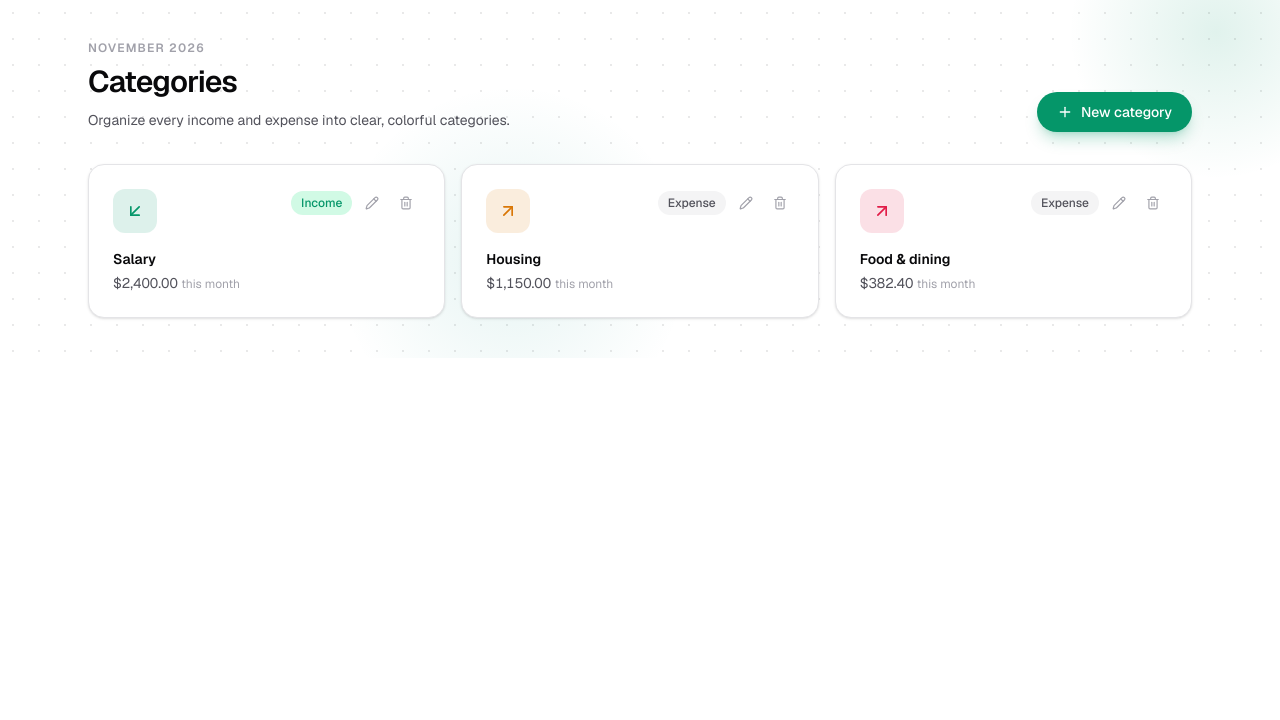
Scenario: CategoriesView › reassigns a category's transactions before deleting it
Click the button named "Delete Food & dining": [1153, 203] box [1139, 189, 1167, 217]
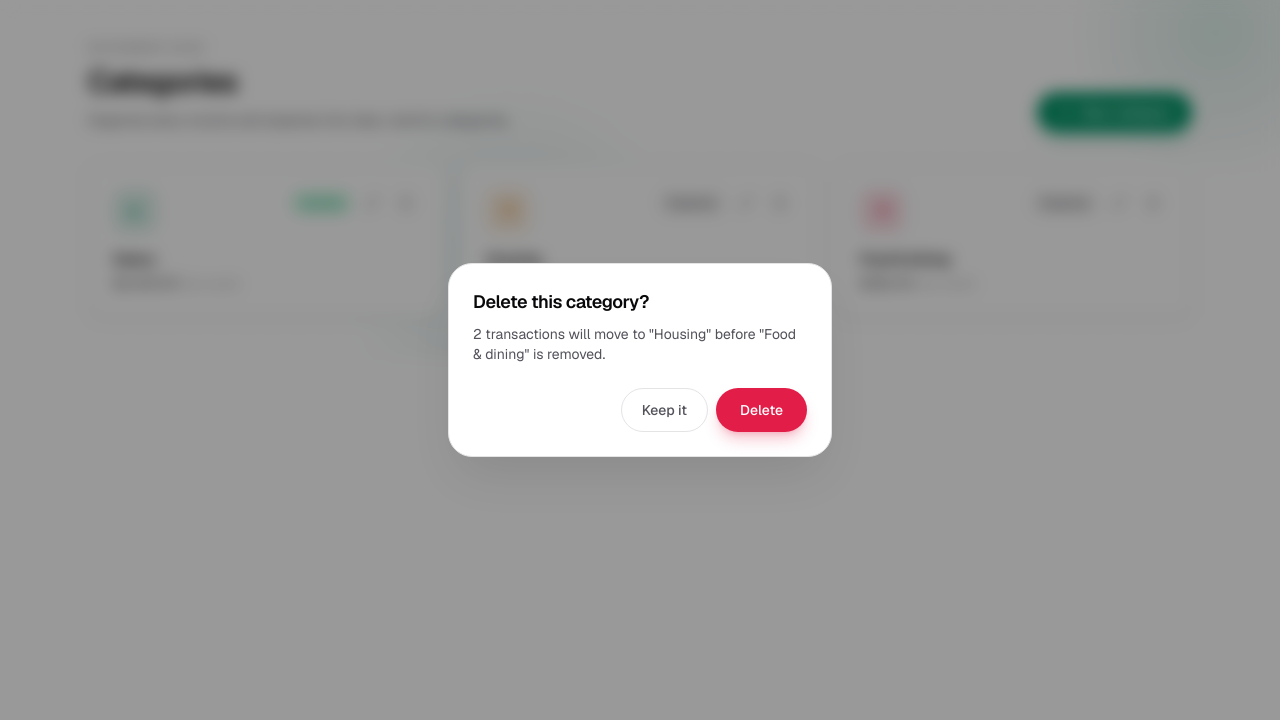
Click the button "Delete": [761, 410] box [716, 388, 807, 432]
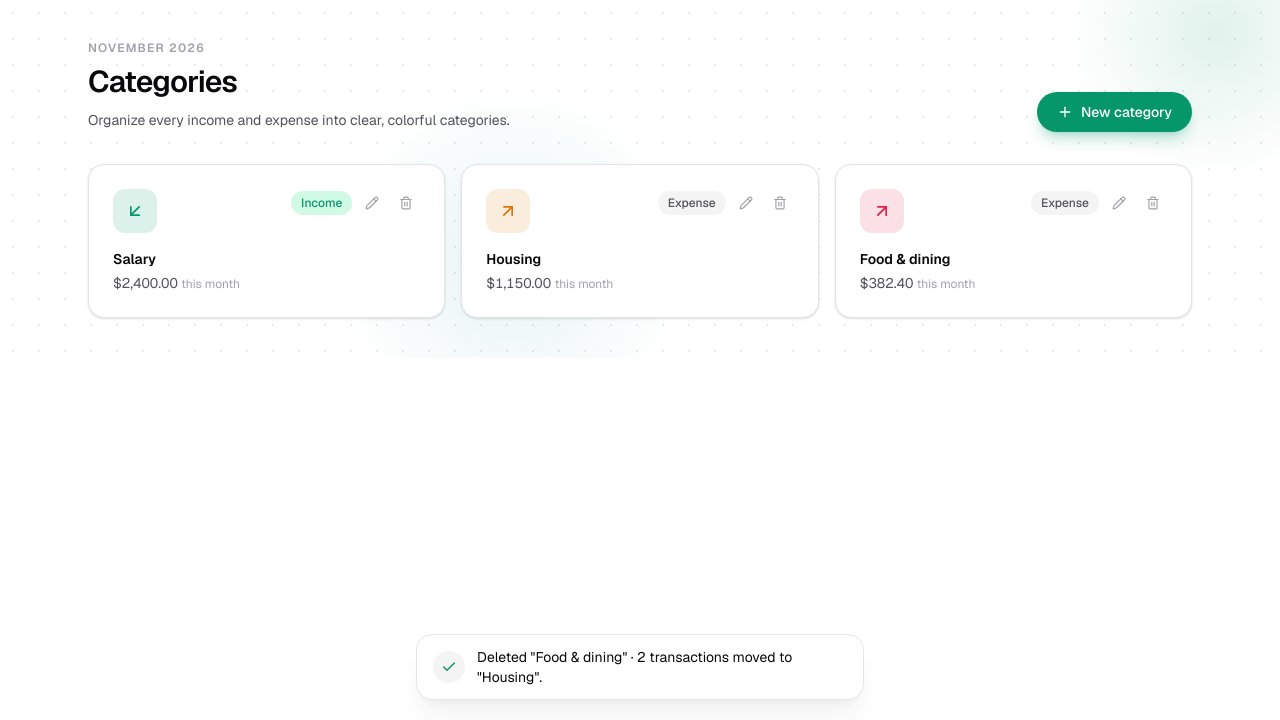
Now the dialog is gone
Now the message reads "Deleted \"Food & dining\" · 2 transactions moved to \"Housing\".", box [477, 648, 792, 686]
